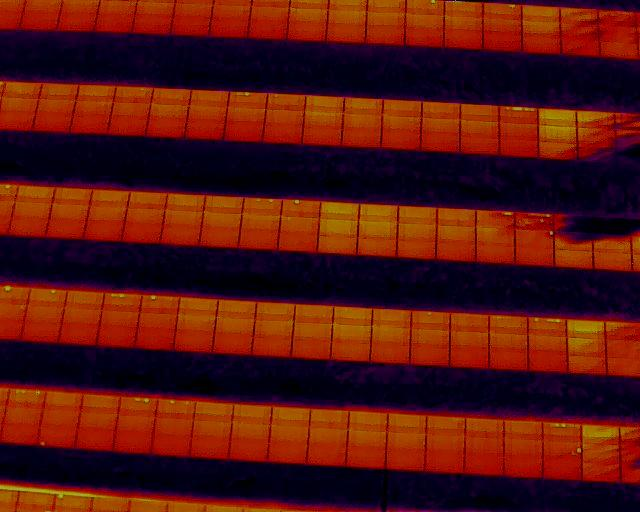Cell: (37, 426, 78, 446), (27, 285, 66, 306), (515, 228, 554, 247), (140, 295, 178, 314), (411, 312, 450, 330), (281, 200, 321, 217), (267, 94, 305, 111), (281, 217, 319, 234), (483, 2, 521, 18), (54, 496, 92, 512), (406, 0, 445, 14)
Cell-Multi: (4, 389, 45, 409), (543, 421, 581, 441), (118, 398, 157, 416), (475, 209, 514, 227), (156, 400, 195, 418), (102, 293, 139, 311), (515, 213, 554, 230), (529, 319, 567, 336), (543, 442, 581, 459), (242, 198, 281, 214), (499, 107, 537, 123)
No-Anomaly: (252, 336, 291, 358), (58, 10, 98, 31), (152, 434, 190, 456), (174, 331, 213, 352), (543, 459, 582, 480), (269, 440, 306, 462), (135, 330, 175, 350), (307, 442, 347, 462), (146, 118, 186, 138), (213, 334, 253, 354), (191, 436, 229, 457), (464, 454, 502, 475), (410, 346, 448, 367), (230, 437, 268, 458), (503, 457, 542, 477), (292, 338, 331, 358), (483, 32, 522, 52), (210, 16, 248, 36), (134, 13, 172, 33), (436, 242, 476, 261), (347, 447, 385, 467), (387, 450, 425, 470), (331, 342, 371, 361), (39, 408, 79, 427), (193, 402, 233, 421), (427, 416, 465, 436), (238, 231, 280, 249), (106, 118, 148, 136), (582, 424, 618, 445), (515, 248, 554, 267), (358, 238, 397, 257), (318, 235, 357, 254), (333, 307, 372, 326), (489, 350, 528, 369), (504, 420, 543, 439), (224, 122, 261, 142), (396, 241, 437, 259), (58, 323, 99, 341), (262, 125, 303, 143), (185, 121, 226, 139), (22, 9, 57, 30), (280, 232, 318, 251), (426, 453, 464, 472), (529, 352, 567, 371), (321, 201, 359, 220), (388, 414, 426, 433), (62, 306, 102, 324), (20, 322, 60, 340), (123, 224, 163, 242), (248, 21, 288, 39), (97, 326, 137, 344), (370, 345, 410, 363), (97, 11, 133, 31), (398, 205, 438, 223), (301, 128, 343, 145), (86, 221, 123, 240), (173, 15, 210, 34), (583, 445, 620, 464), (371, 326, 410, 344), (319, 219, 358, 237), (567, 356, 606, 374), (0, 425, 39, 443), (47, 220, 86, 238), (3, 409, 44, 426), (255, 304, 293, 322), (17, 492, 53, 511), (465, 420, 503, 438), (91, 190, 127, 209), (349, 412, 387, 430), (77, 429, 115, 447), (449, 348, 487, 366), (114, 432, 152, 450), (293, 306, 333, 323), (99, 311, 139, 328), (372, 310, 412, 327), (489, 317, 529, 334), (69, 117, 109, 134), (382, 131, 422, 148), (309, 410, 349, 427), (0, 98, 37, 116), (10, 217, 47, 235), (206, 195, 243, 213), (449, 315, 488, 332), (36, 100, 75, 117), (475, 245, 514, 262), (437, 225, 476, 242), (475, 228, 514, 245), (178, 298, 217, 315), (443, 31, 482, 48), (437, 209, 476, 226), (167, 194, 206, 211), (460, 121, 499, 138), (78, 412, 117, 429), (287, 8, 328, 24), (232, 405, 273, 421), (202, 230, 238, 248), (42, 84, 78, 102), (27, 305, 65, 322), (567, 320, 605, 337), (217, 301, 255, 318), (538, 127, 576, 144), (522, 5, 560, 22), (499, 140, 537, 157), (421, 133, 459, 150), (128, 193, 166, 210), (272, 408, 310, 425), (427, 436, 465, 453), (388, 434, 426, 451), (567, 339, 605, 356), (79, 395, 117, 412), (188, 91, 228, 107), (150, 89, 190, 105), (241, 214, 281, 230), (341, 131, 381, 147), (162, 225, 199, 242), (360, 204, 397, 221), (45, 392, 82, 409), (344, 99, 383, 115), (398, 224, 437, 240), (449, 332, 488, 348), (464, 438, 503, 454), (405, 31, 444, 47), (504, 440, 543, 456), (327, 10, 366, 26), (366, 12, 405, 28), (359, 221, 398, 237), (366, 29, 405, 45), (153, 417, 192, 433), (17, 186, 53, 203), (593, 253, 631, 269), (555, 251, 593, 267), (212, 0, 250, 16), (288, 24, 326, 40), (138, 314, 176, 330), (327, 26, 365, 42), (2, 82, 40, 98), (582, 464, 620, 480), (54, 188, 92, 204), (33, 117, 71, 133), (250, 6, 288, 22), (382, 101, 422, 116), (73, 102, 113, 117), (64, 292, 104, 307), (115, 416, 155, 431), (230, 422, 270, 437), (347, 431, 387, 446), (293, 324, 332, 339), (305, 97, 344, 112), (177, 316, 216, 331), (332, 326, 371, 341), (411, 330, 450, 345), (114, 88, 153, 103), (538, 111, 577, 126), (343, 115, 382, 130), (499, 124, 538, 139), (50, 204, 89, 219), (599, 26, 635, 42), (14, 202, 50, 218), (215, 319, 256, 333), (263, 111, 304, 125), (522, 22, 560, 37), (445, 1, 483, 16), (173, 0, 211, 15), (529, 337, 567, 352), (522, 38, 560, 53), (406, 14, 444, 29), (443, 16, 483, 30), (303, 113, 343, 127), (191, 422, 231, 436), (77, 87, 114, 102), (204, 214, 241, 229), (226, 109, 265, 123), (110, 102, 149, 116), (460, 107, 499, 121), (489, 334, 528, 348), (164, 211, 203, 225), (382, 117, 421, 131), (308, 428, 346, 442), (270, 426, 308, 440), (126, 210, 164, 224), (253, 322, 293, 335), (422, 119, 459, 133), (89, 207, 126, 221), (187, 107, 226, 120), (460, 139, 499, 152), (601, 43, 636, 57), (422, 105, 459, 118), (149, 105, 188, 117), (136, 0, 173, 12), (482, 20, 521, 31)
Shadowing: (593, 234, 630, 253), (561, 40, 599, 58), (555, 232, 592, 249), (577, 129, 616, 145), (560, 8, 599, 24), (554, 215, 592, 231), (577, 112, 615, 128), (538, 144, 576, 160), (593, 217, 630, 233), (560, 25, 599, 39), (600, 11, 636, 26), (577, 145, 615, 159)
Unclassified: (228, 91, 267, 108)
